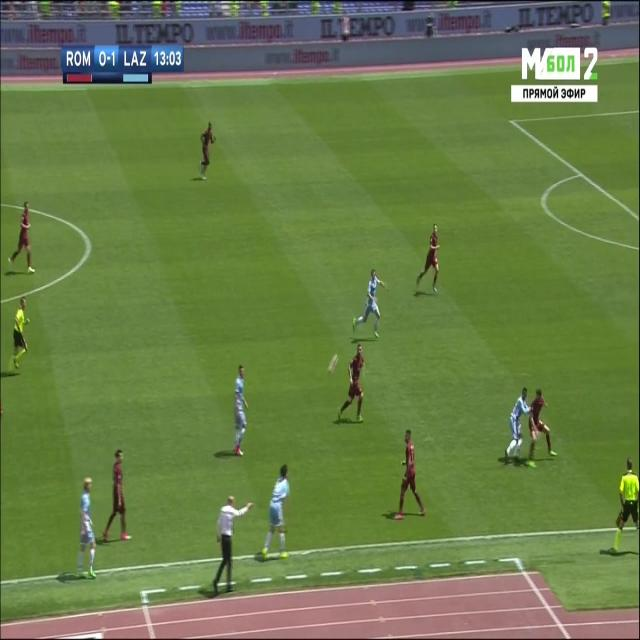Player: (258, 462, 292, 563), (392, 428, 428, 523), (102, 447, 133, 545), (351, 266, 392, 340), (74, 474, 99, 586), (336, 343, 368, 424), (528, 387, 559, 468), (230, 362, 252, 461), (503, 386, 530, 464), (6, 200, 33, 275), (414, 222, 440, 294), (194, 121, 218, 185)
Referee: (607, 452, 640, 558), (8, 295, 32, 373)
